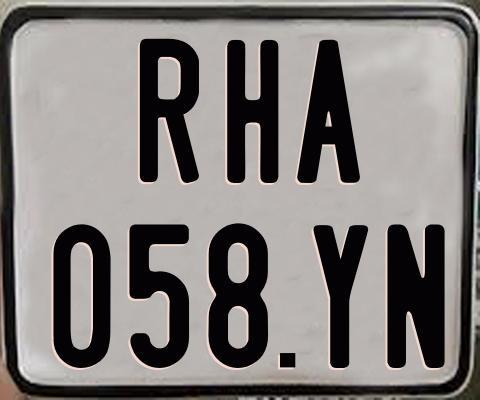0: (50, 224, 109, 374)
5: (126, 222, 190, 366)
8: (207, 221, 270, 370)
A: (296, 38, 365, 185)
H: (224, 37, 281, 186)
N: (387, 221, 448, 366)
R: (138, 37, 197, 187)
Y: (312, 224, 372, 368)
